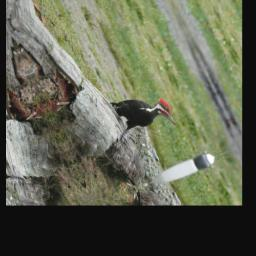Woodpecker: (106, 81, 181, 145)
